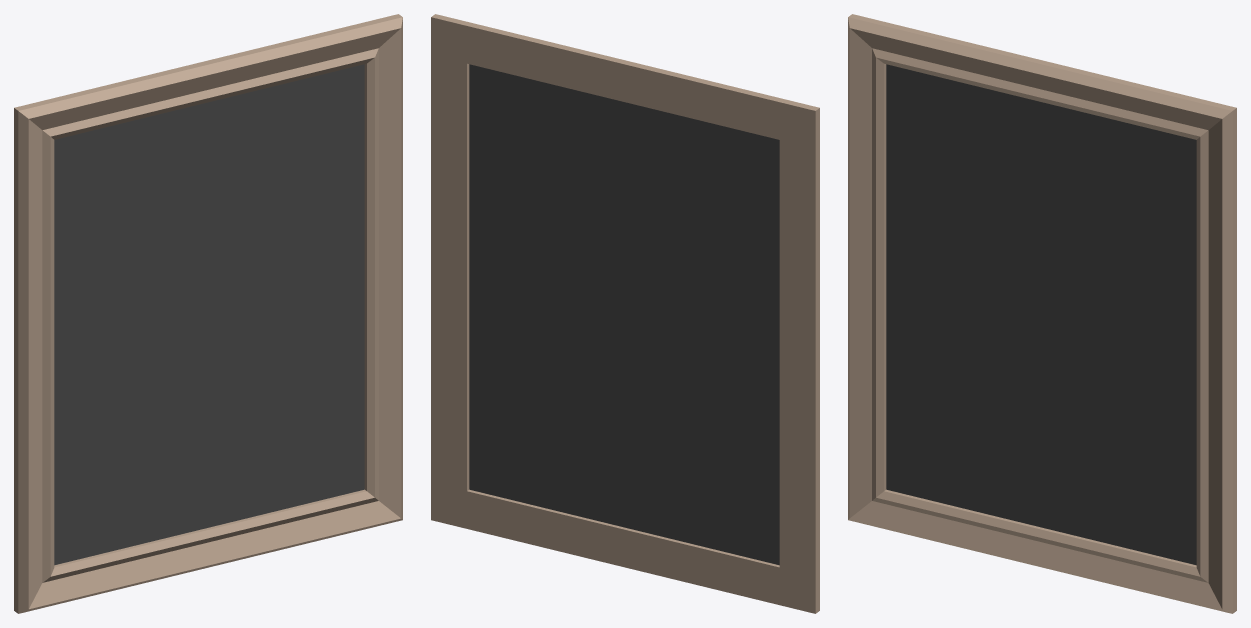
The model's file is Prop_Misc_Picture_Portrait.fbx.
3 renders of one model, left to right at view 1: azimuth 30°, elevation 25°; view 2: azimuth 150°, elevation 25°; view 3: azimuth 330°, elevation 25°, orthographic.
Visible parts, largest first — view 1: object1.046, object2.031; view 2: object1.046, object2.031; view 3: object1.046, object2.031.
Boxes of the visible parts, bbox=[...] form: object1.046: bbox=[54, 64, 364, 565]; object2.031: bbox=[14, 14, 402, 613]; object1.046: bbox=[469, 64, 779, 565]; object2.031: bbox=[431, 14, 819, 613]; object1.046: bbox=[886, 64, 1196, 565]; object2.031: bbox=[848, 14, 1236, 613].
Size of the model in its own units: 80 by 100 by 3.13.
